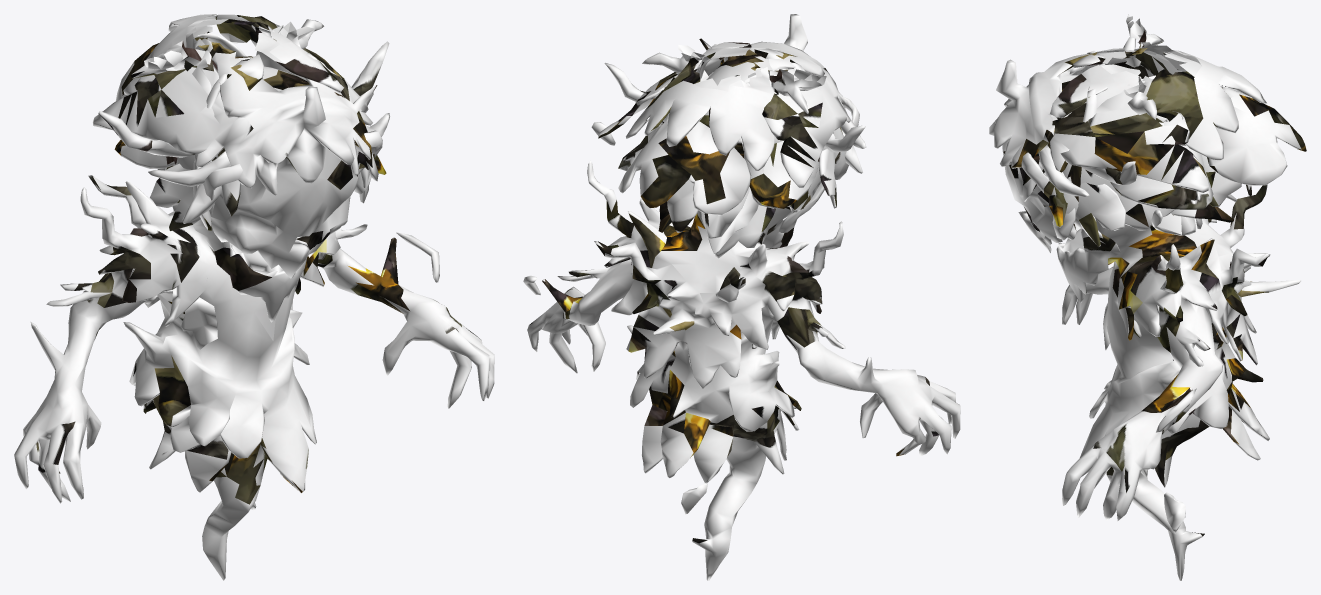
The model's file is wither_sprite_gold_10k.fbx.
The picture shows the model from 3 angles, left to right: view 1: azimuth 30°, elevation 25°; view 2: azimuth 150°, elevation 25°; view 3: azimuth 270°, elevation 25°; orthographic projection. The views are drawn at different scales.
Visible parts, largest first — view 1: wither_sprite_gold_decimated; view 2: wither_sprite_gold_decimated; view 3: wither_sprite_gold_decimated.
Boxes of the visible parts, x1=… form: wither_sprite_gold_decimated: x1=14, y1=14, x2=494, y2=580; wither_sprite_gold_decimated: x1=523, y1=14, x2=960, y2=580; wither_sprite_gold_decimated: x1=989, y1=14, x2=1306, y2=580.
Size of the model in its own units: 1.43 by 1.67 by 0.9149.
